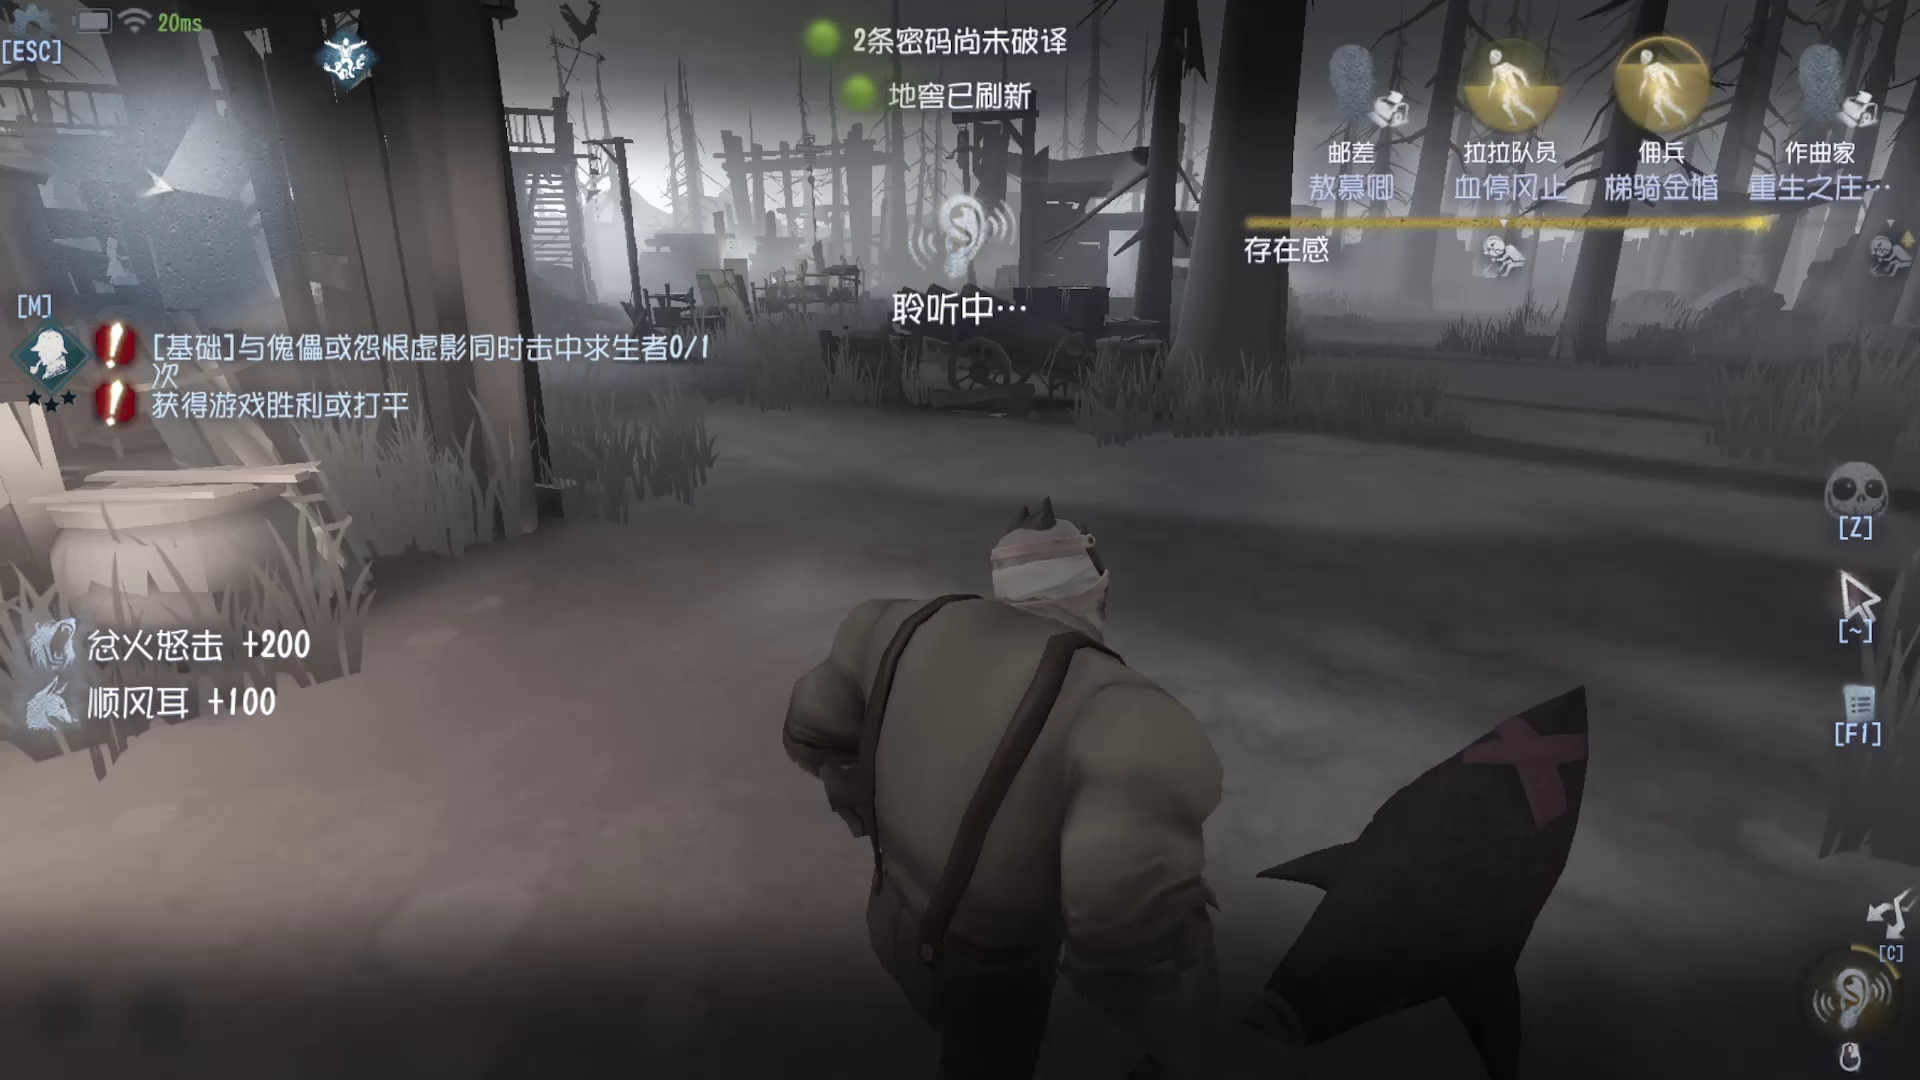木板: (691, 255, 774, 338)
